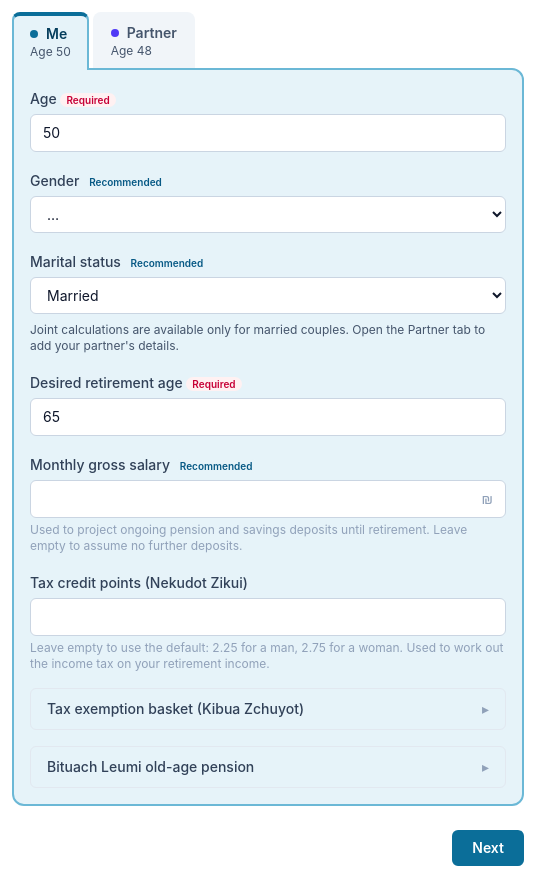
it: PersonalStep — spouse › keeps the user's fields on their own tab and the partner's on the Partner tab
Expected: the dropdown labelled "Marital status Recommended" is shown, [30,277,506,314]
Expected: the field labelled "Spouse's age" is not shown
Click the tab "Partner Age 48" at (144,40), box [93,12,195,68]
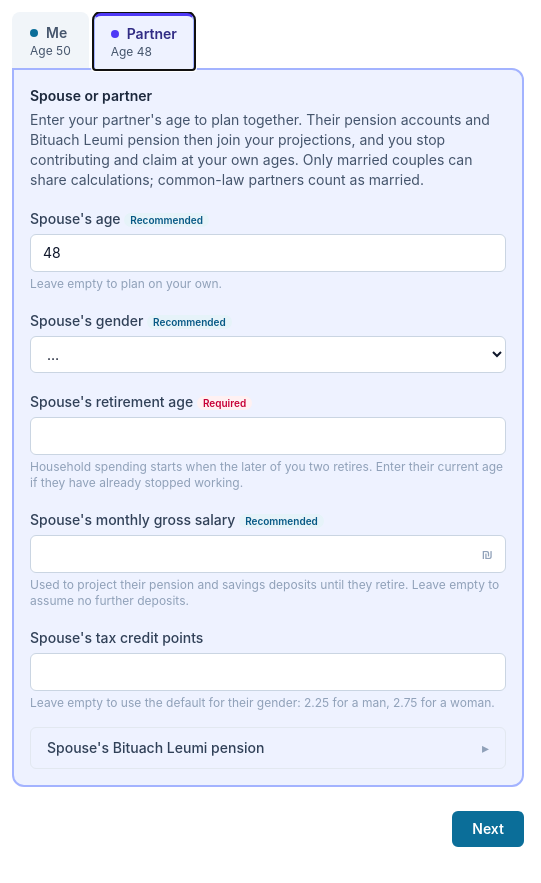
Expected: the number field labelled "Spouse's age Recommended Leave empty to plan on your own." holds "48", [31,235,505,271]
Expected: the field labelled "Marital status" is gone
